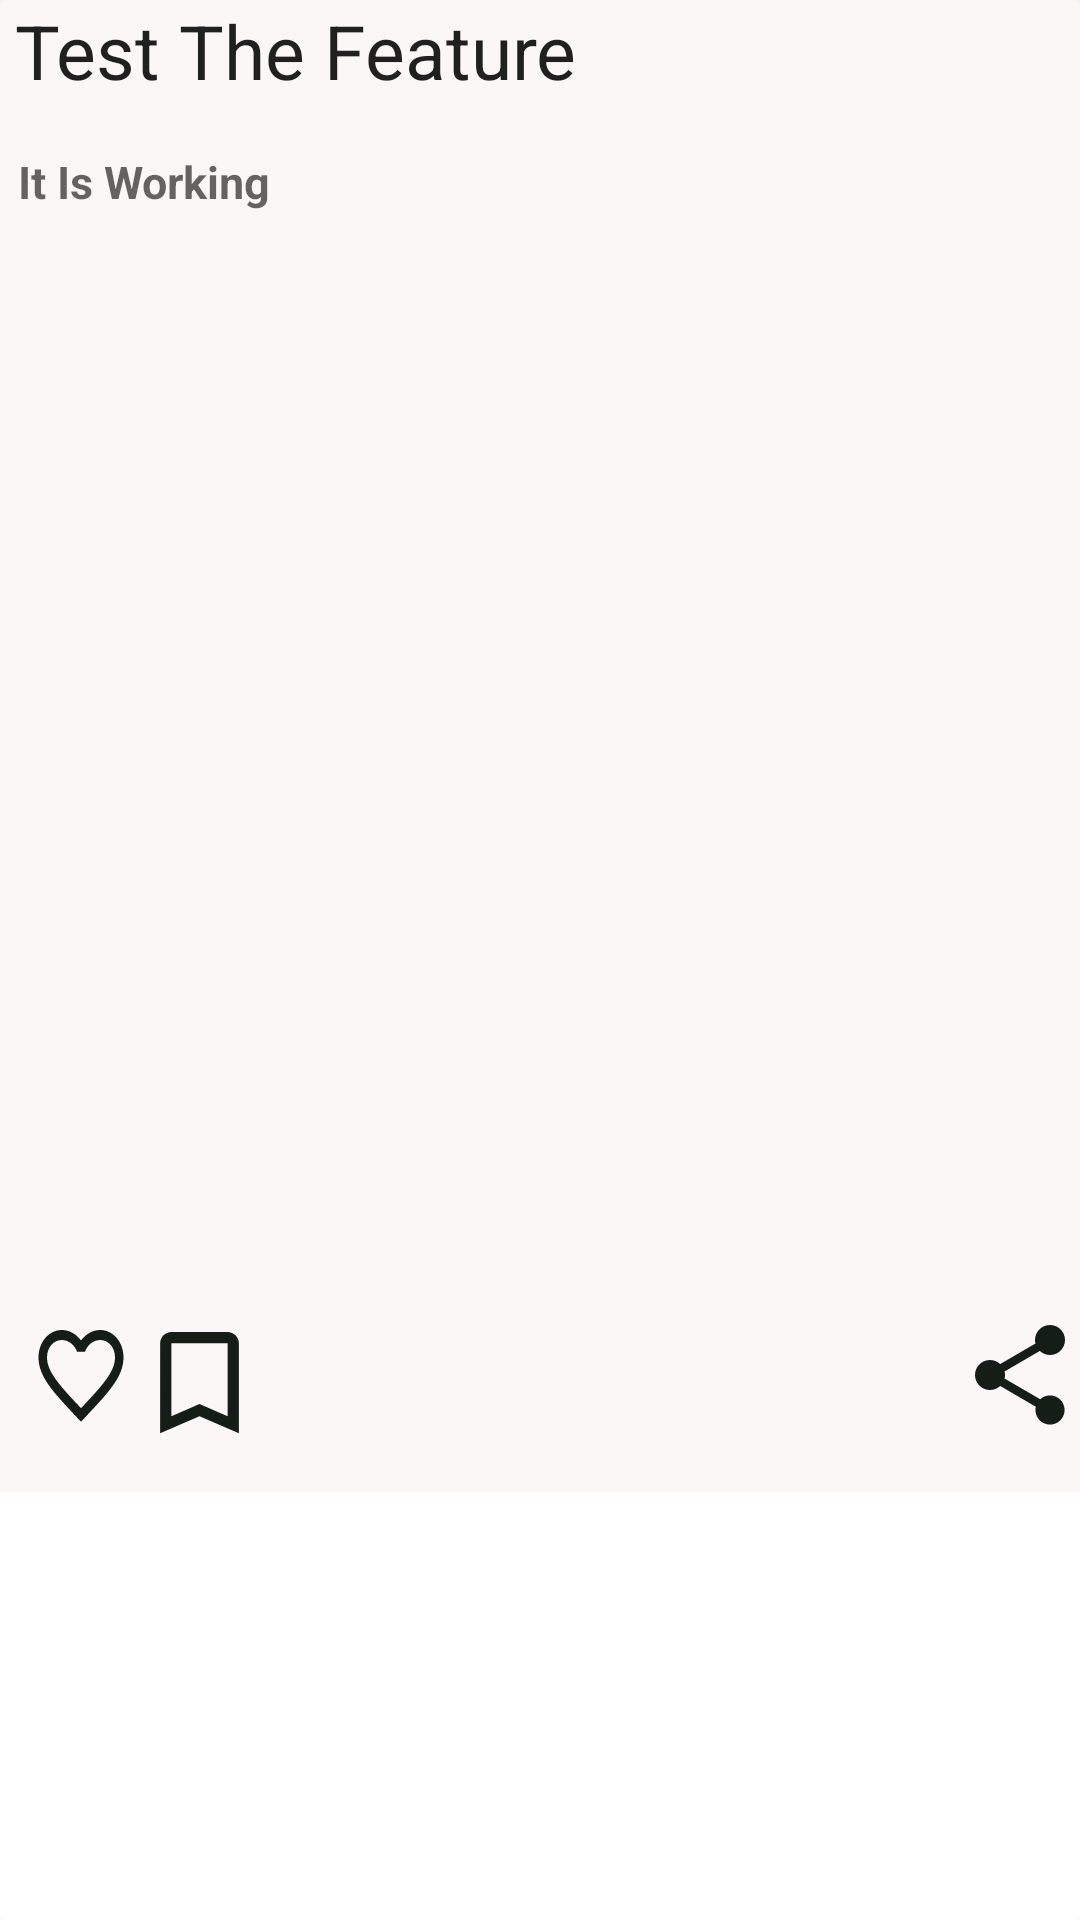

Named icons in this screenshot (1080x1920) and their centers, [x,y]:
reaction: [81,1376]
share option: [1020,1375]
